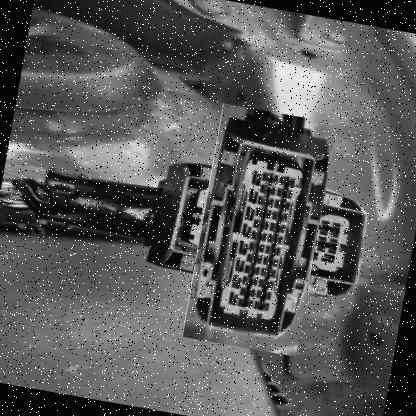Connector: (158, 128, 362, 334)
